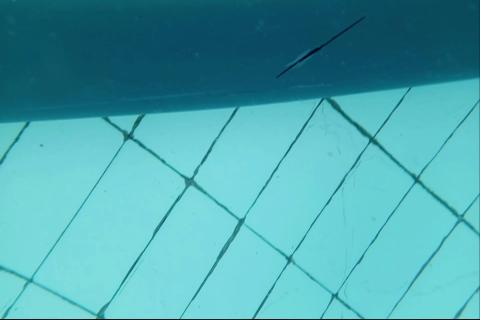keretakan: (277, 18, 364, 75)
